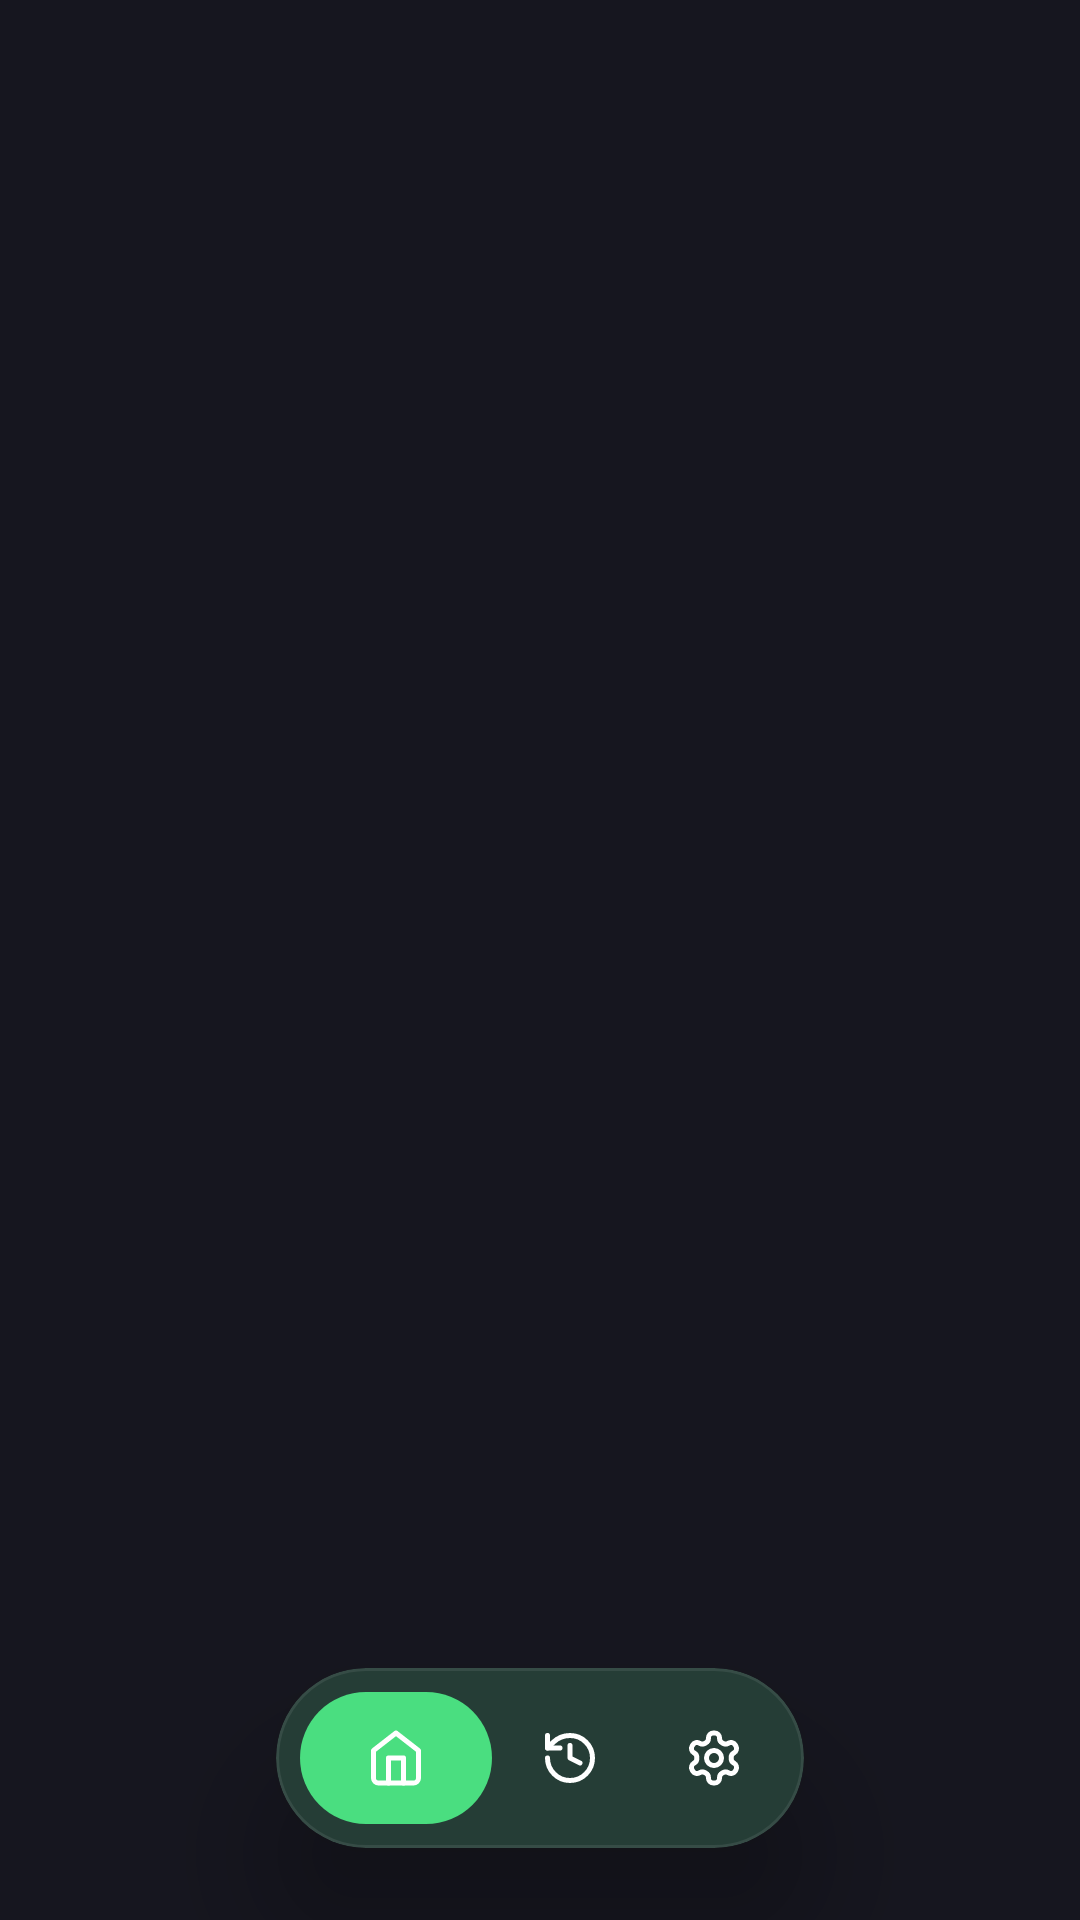

Named icons in this screenshot (1080×1920) and their centers, [x,y]:
History: [570,1758]
Home: [396,1758]
Settings: [714,1758]
